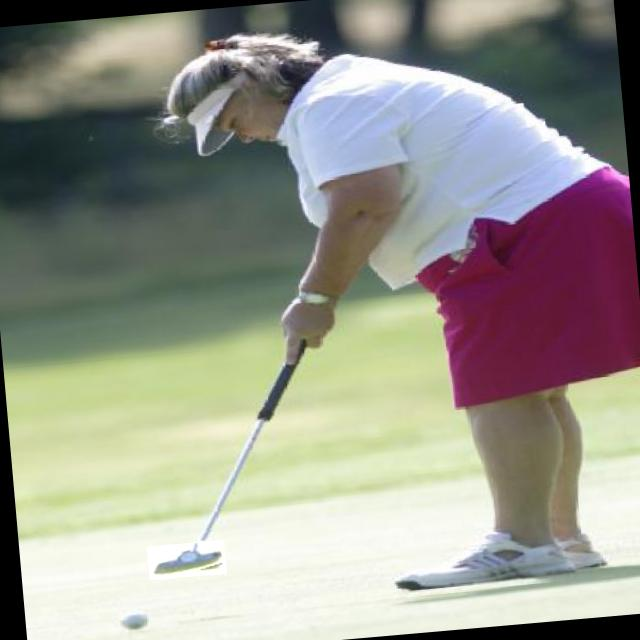club head: (146, 539, 227, 580)
